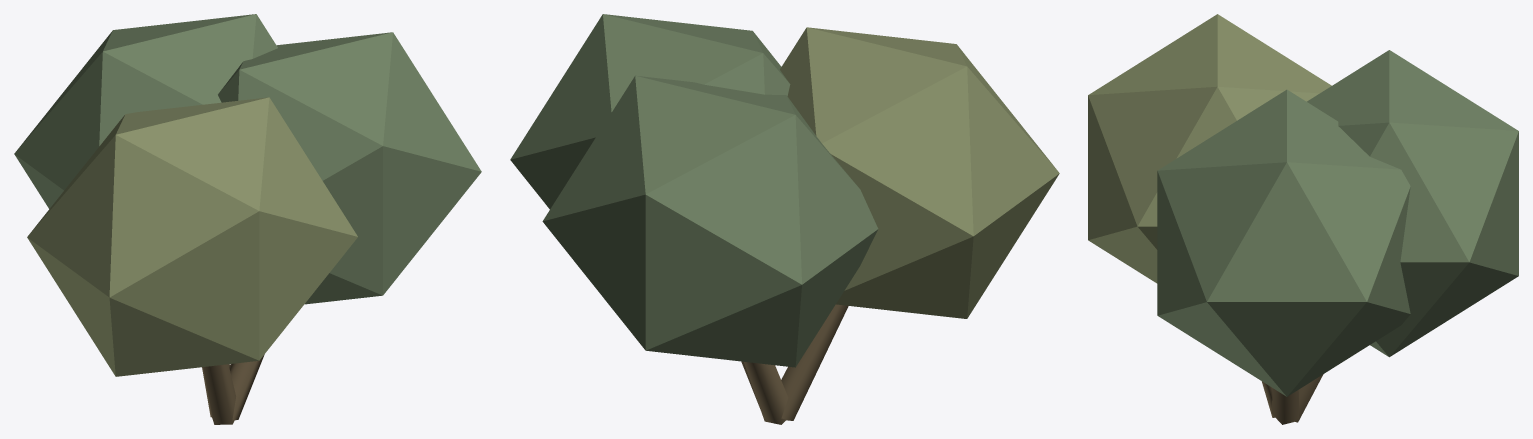
The model's file is plant-shrub.glb.
3 renders of one model, left to right at view 1: azimuth 30°, elevation 25°; view 2: azimuth 150°, elevation 25°; view 3: azimuth 270°, elevation 25°, orthographic. The views are drawn at different scales.
Parts seen in each view (by area): view 1: plant-shrub; view 2: plant-shrub; view 3: plant-shrub.
Boxes of the visible parts, x1,y1,x2,y2 form: plant-shrub: [14, 14, 481, 424]; plant-shrub: [510, 14, 1059, 424]; plant-shrub: [1088, 14, 1518, 424].
Bounding box in the file's own units: 1.2 × 0.977 × 1.13.
